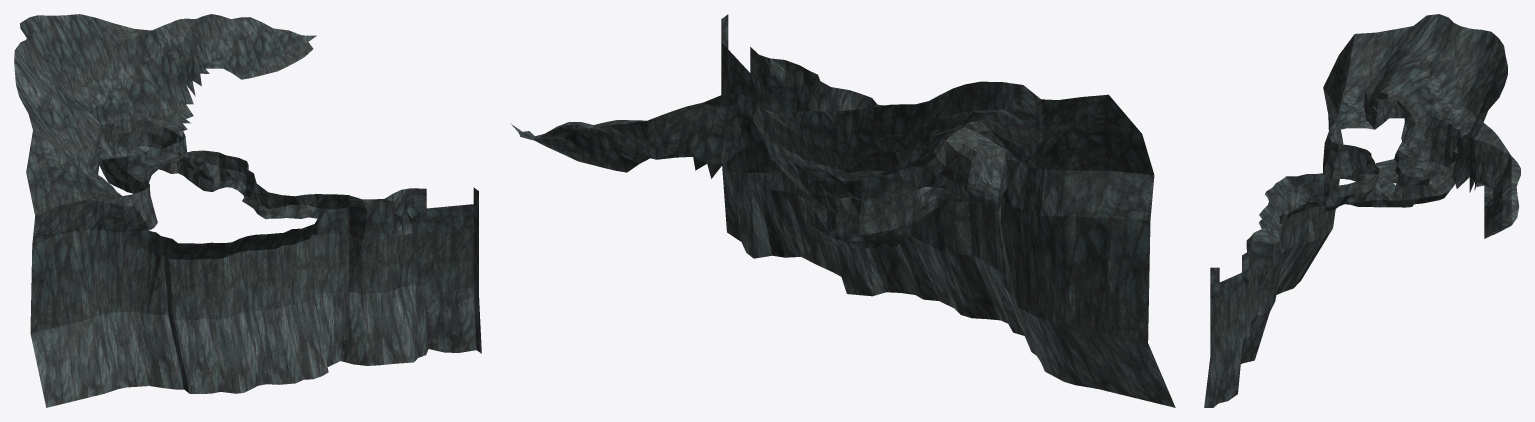
File: terrain_cliffs.fbx
3 renders of one model, left to right at view 1: azimuth 30°, elevation 25°; view 2: azimuth 150°, elevation 25°; view 3: azimuth 270°, elevation 25°, orthographic. The views are drawn at different scales.
Parts seen in each view (by area): view 1: obj0.169; view 2: obj0.169; view 3: obj0.169.
Boxes of the visible parts, x1=… form: obj0.169: x1=14, y1=14, x2=481, y2=407; obj0.169: x1=510, y1=14, x2=1175, y2=407; obj0.169: x1=1204, y1=14, x2=1520, y2=407.
Size of the model in its own units: 106 by 77.22 by 86.72.
